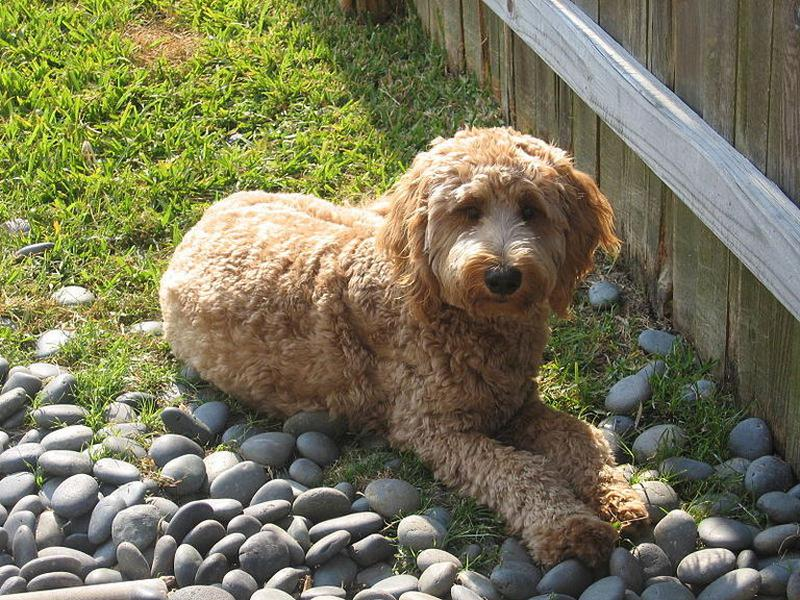dog_down: (155, 122, 654, 570)
